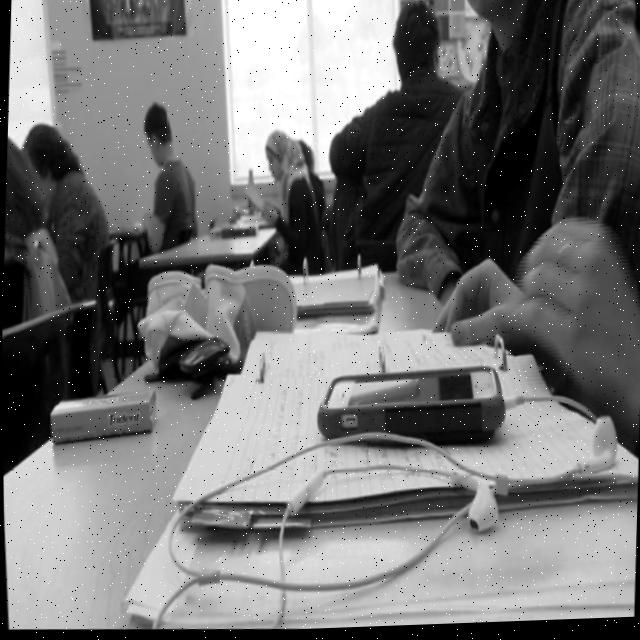phone: (311, 357, 509, 463)
